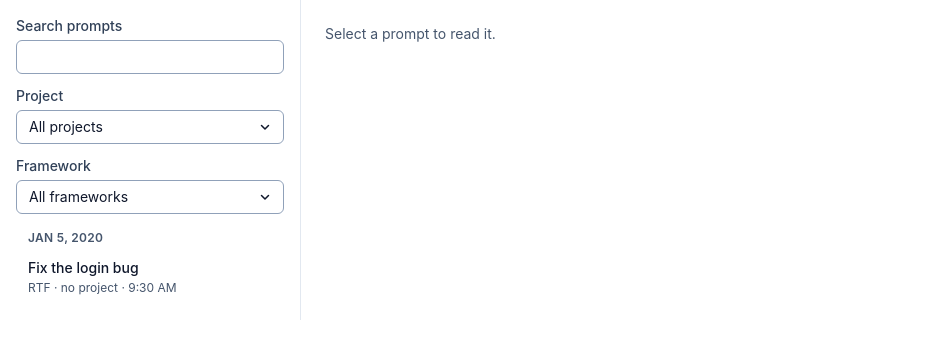
EntryDetail › reads_only_the_entry's_own_section_values
The width and height of the screenshot is (930, 337).
What coordinates should you click on to do the following:
click the button "Fix the login bug RTF · no project · 9:30 AM"
I would click on:
 (150, 277)
Its box is [16,250,284,304].
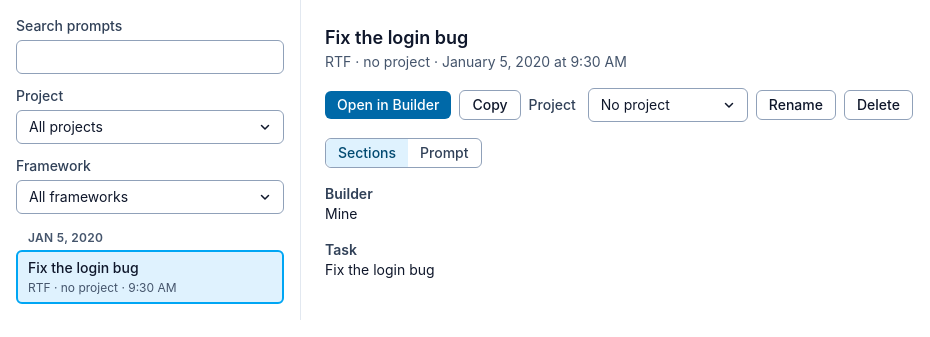
Expected: the headings read "Builder", "Task", in this order, [325,185,373,202]; [325,241,357,258]
Expected: the text "Mine" is shown, [325,205,358,222]
